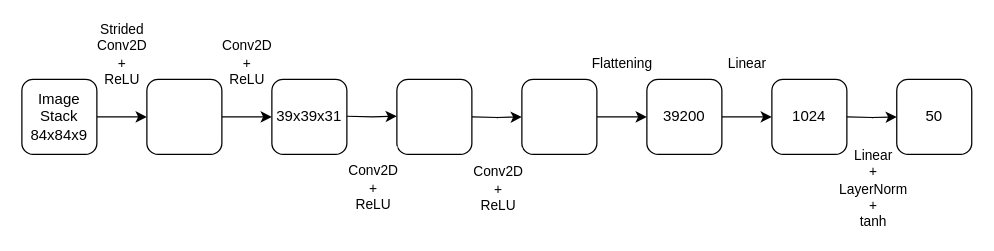
This 994x251 diagram has some shape labels left out. Here are the shapes that lost their labels. From the top down, the centre of each, then its label:
At pixel 184 116: "41x41x32".
At pixel 434 116: "37x37x32".
At pixel 559 116: "35x35x9".
